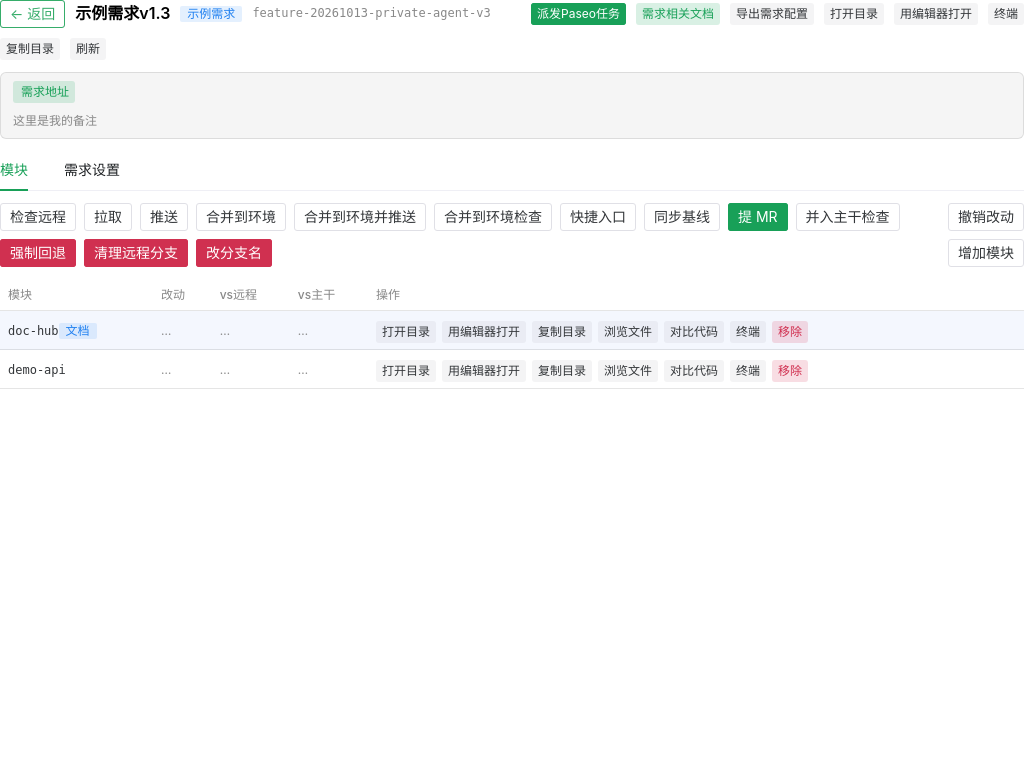
改分支名 › 关掉再打开，输入框是空的（不残留上次填的名字）
Step 1. Click the button "改分支名" → {"x": 234, "y": 253}, box [196,239,272,267]
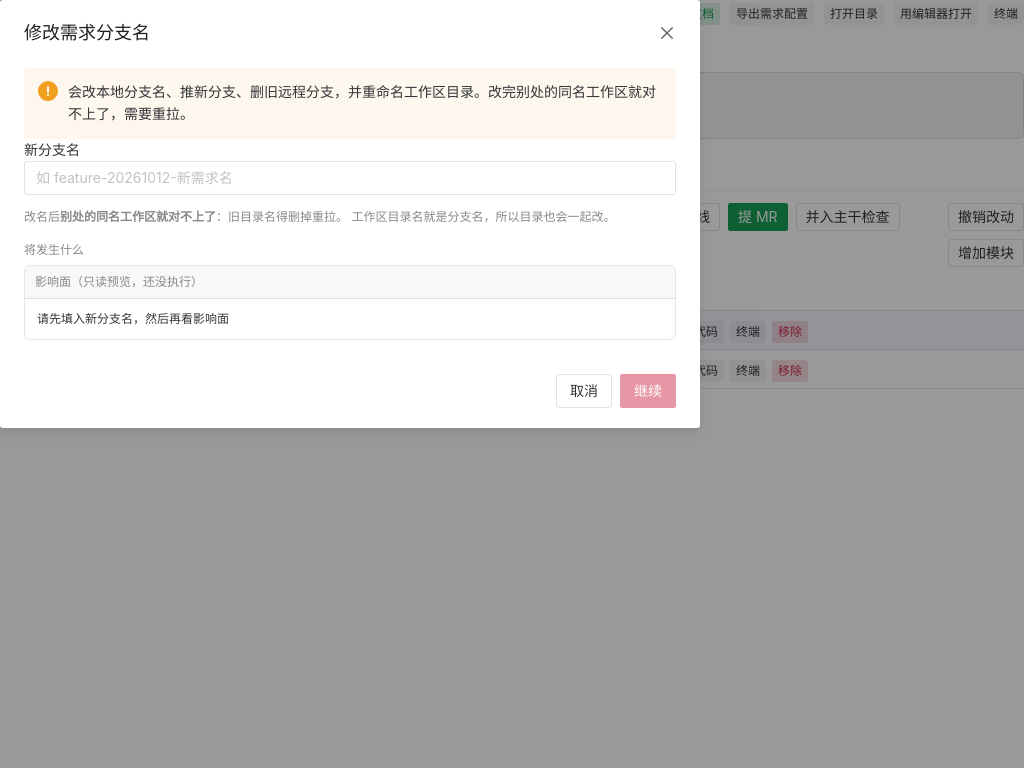
Step 2. Type "feature-20261013-renamed" into the field with placeholder "如 feature-20261012-新需求名" → {"x": 350, "y": 178}, box [36,161,664,195]
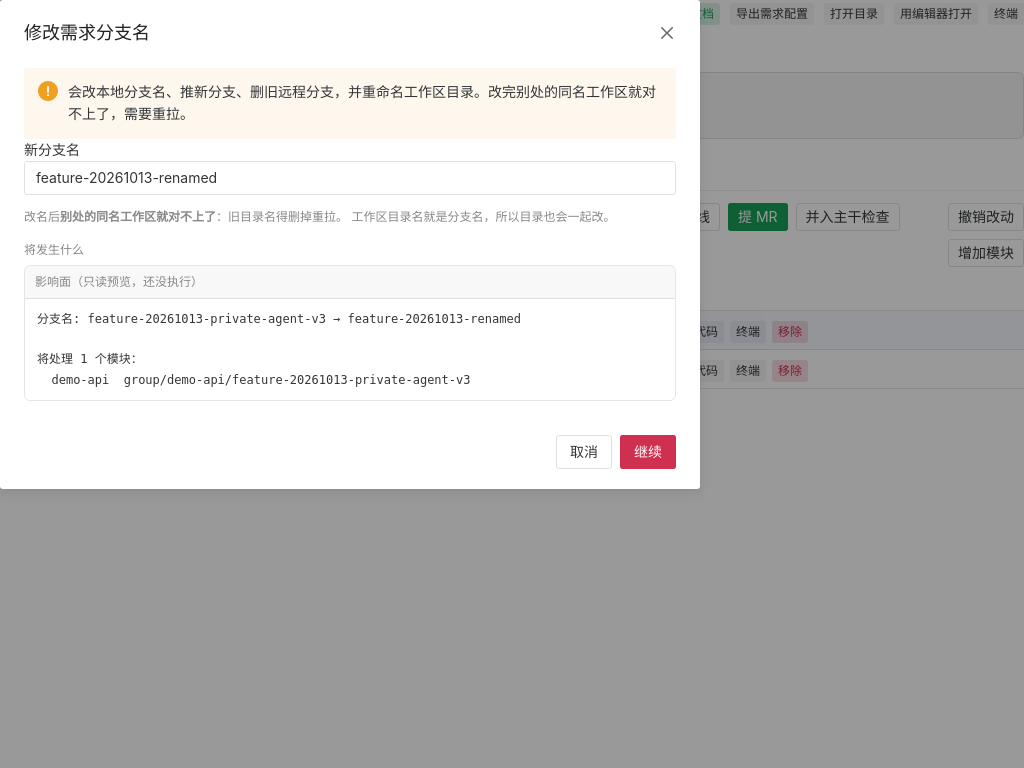
Step 3. Click the button "取消" → {"x": 584, "y": 452}, box [556,435,612,469]
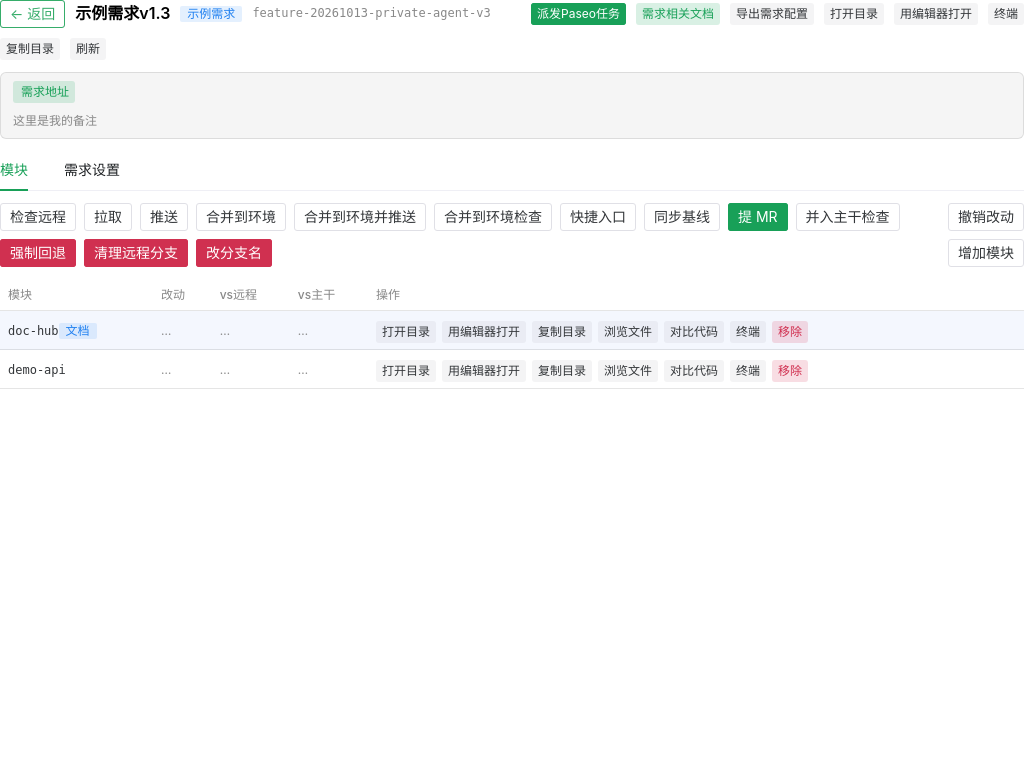
Step 4. Click the button "改分支名" → {"x": 234, "y": 253}, box [196,239,272,267]
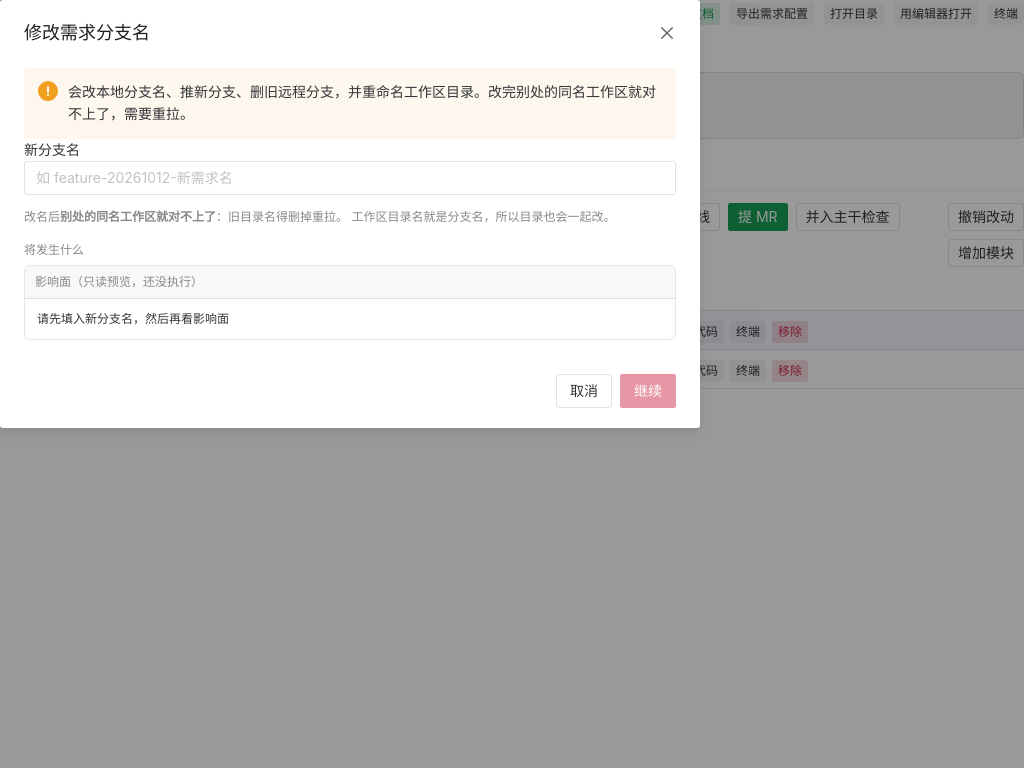
Expected: the field with placeholder "如 feature-20261012-新需求名" is empty, [36,161,664,195]
Expected: the text "请先填入新分支名" is shown, [37,312,229,326]
